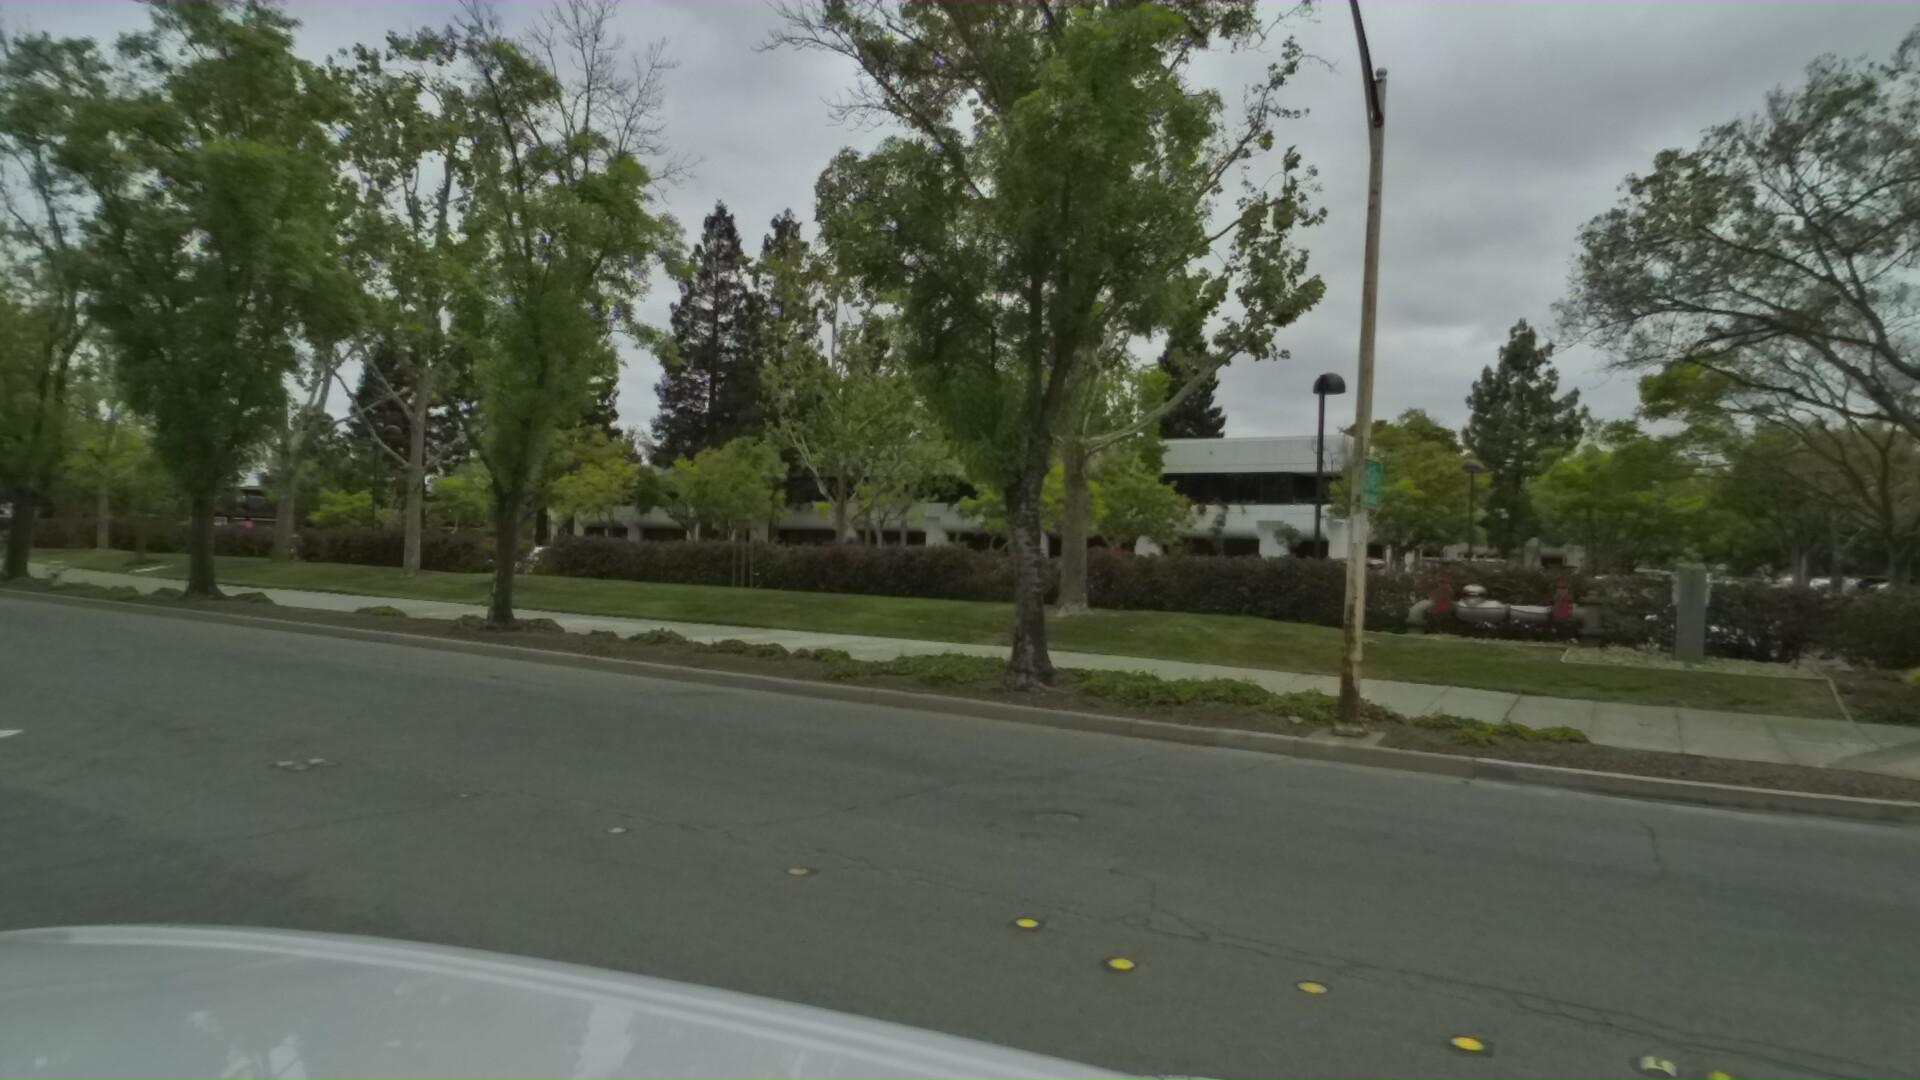car: (479, 549, 626, 593)
